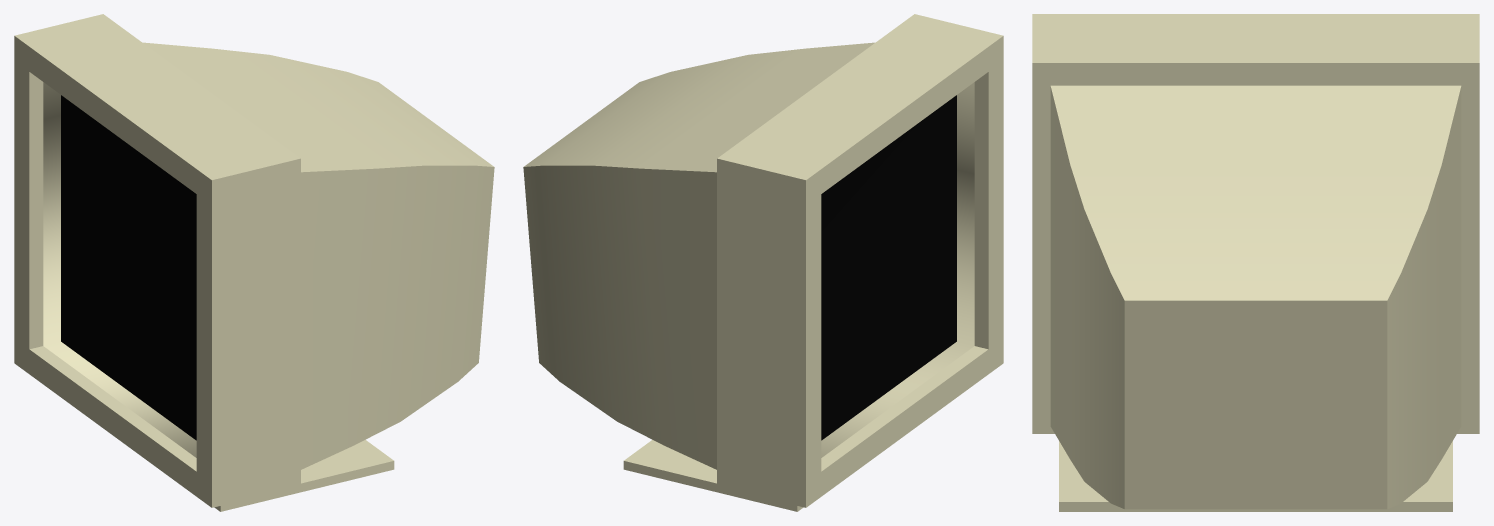
The model's file is Pantalla.fbx.
3 views of the same model, side by side, from view 1: azimuth 30°, elevation 25°; view 2: azimuth 150°, elevation 25°; view 3: azimuth 270°, elevation 25° (orthographic). The views are drawn at different scales.
Parts seen in each view (by area): view 1: Cube; view 2: Cube; view 3: Cube.
Part boxes in pixels (left/top/right/bottom): Cube: left=14, top=14, right=494, bottom=511; Cube: left=523, top=14, right=1003, bottom=511; Cube: left=1032, top=14, right=1479, bottom=511.
Size of the model in its own units: 83.01 by 84.68 by 87.8.
